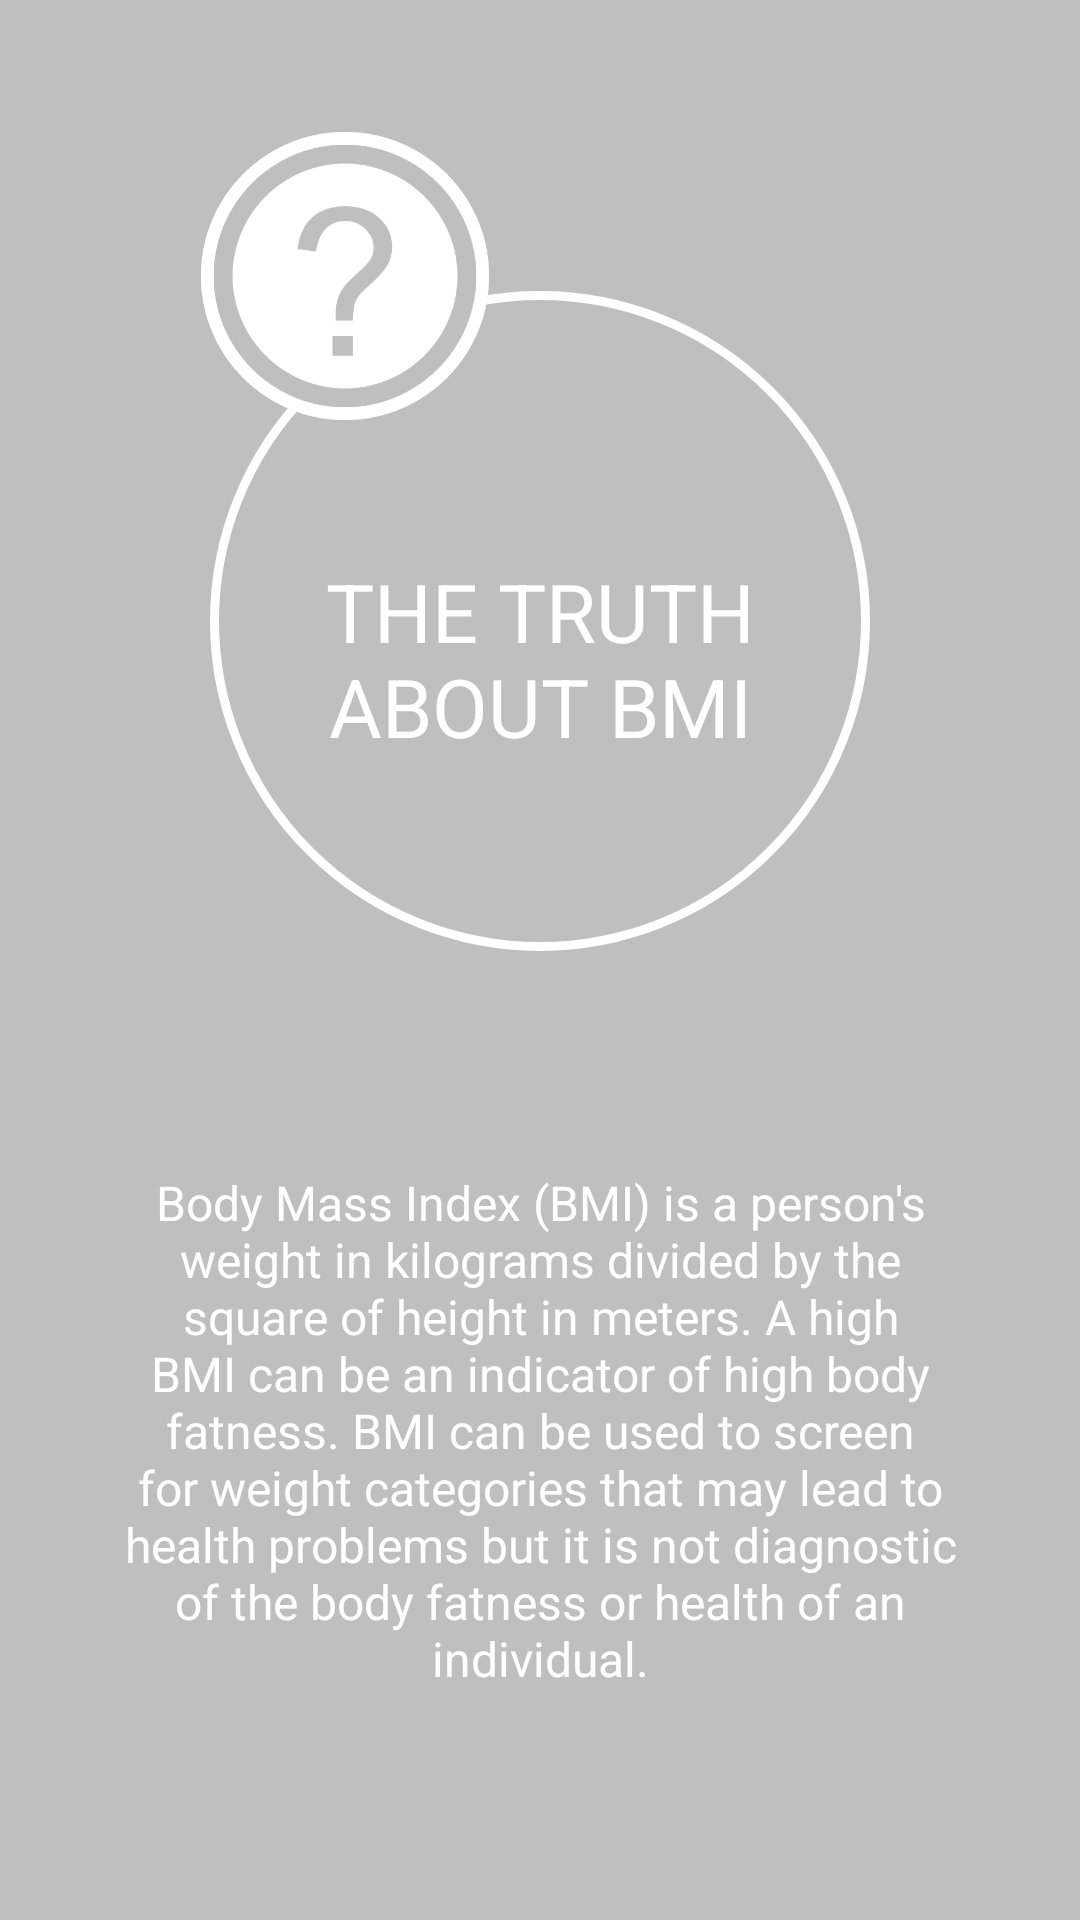

Point at icon controls on the screen. Image size 1080×1920, points as (x=x, y=y).
ask: (x=344, y=276)
